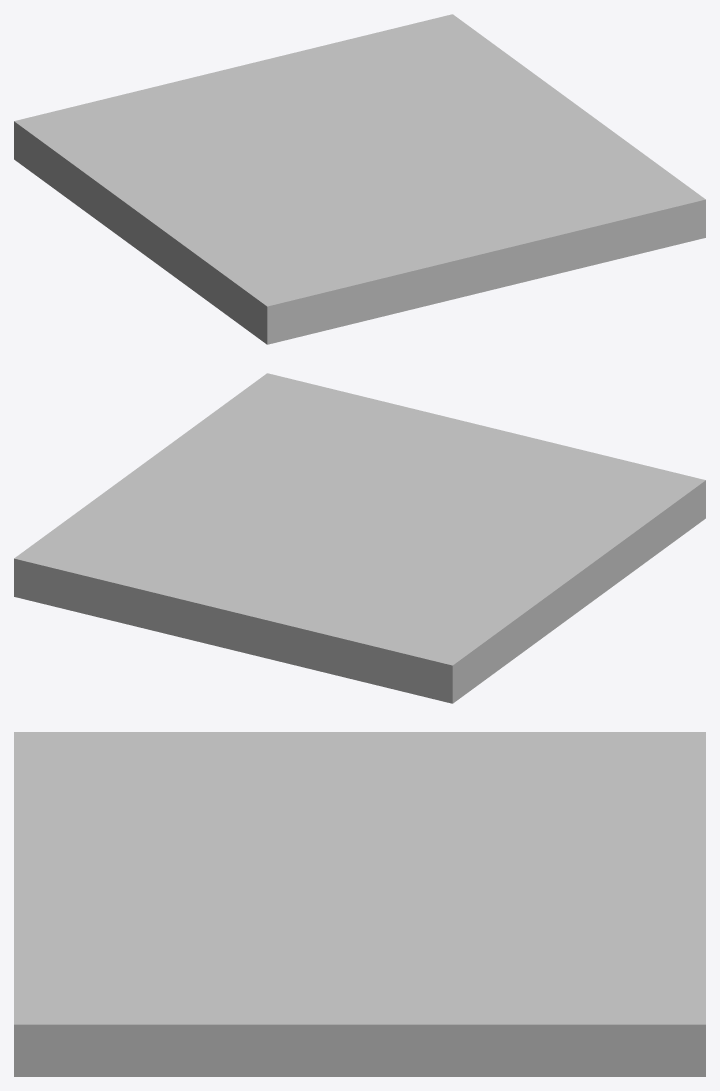
The model's file is StationCeiling.fbx.
3 renders of one model, top to bottom at view 1: azimuth 30°, elevation 25°; view 2: azimuth 150°, elevation 25°; view 3: azimuth 270°, elevation 25°, orthographic. The views are drawn at different scales.
Parts seen in each view (by area): view 1: Cube.003; view 2: Cube.003; view 3: Cube.003.
Boxes of the visible parts, x1,y1,x2,y2 form: Cube.003: (14,14,705,344); Cube.003: (14,373,705,703); Cube.003: (14,732,705,1076).
Size of the model in its own units: 240 by 20 by 240.
